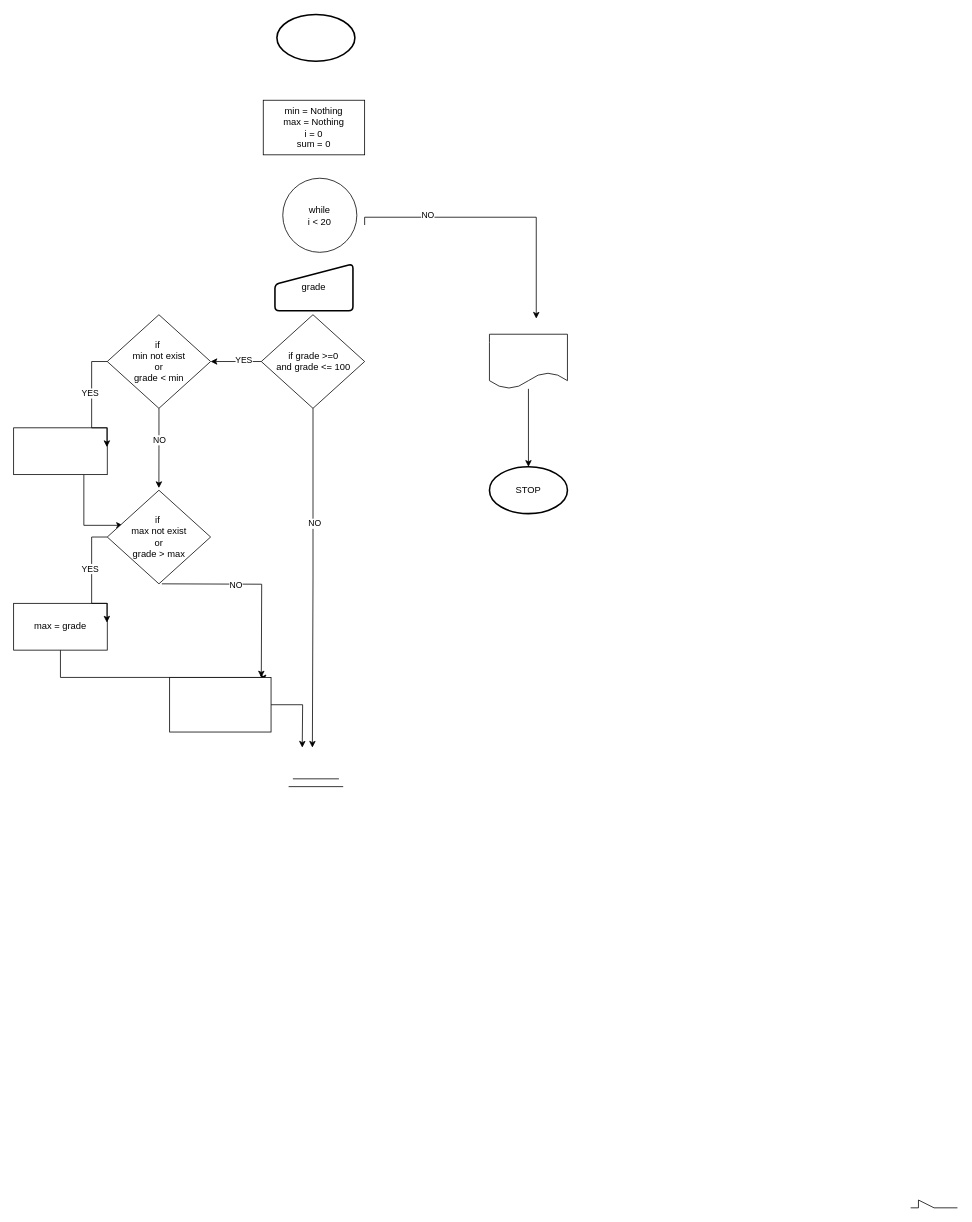
Some shapes in this 972 by 1222 pixel diagram are drawn without their labels. Here are the shapes that lost their labels. From the top down, the centre of each, then its label:
At (x=315, y=37): "START".
At (x=528, y=361): "min, max, sum / 20".
At (x=60, y=451): "min = grade".
At (x=220, y=704): "i = i + 1 sum = sum + grade".
